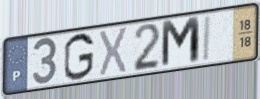2: (132, 22, 162, 73)
3: (31, 35, 59, 89)
G: (63, 31, 96, 82)
I: (201, 14, 213, 64)
M: (160, 14, 202, 71)
X: (98, 25, 130, 78)
